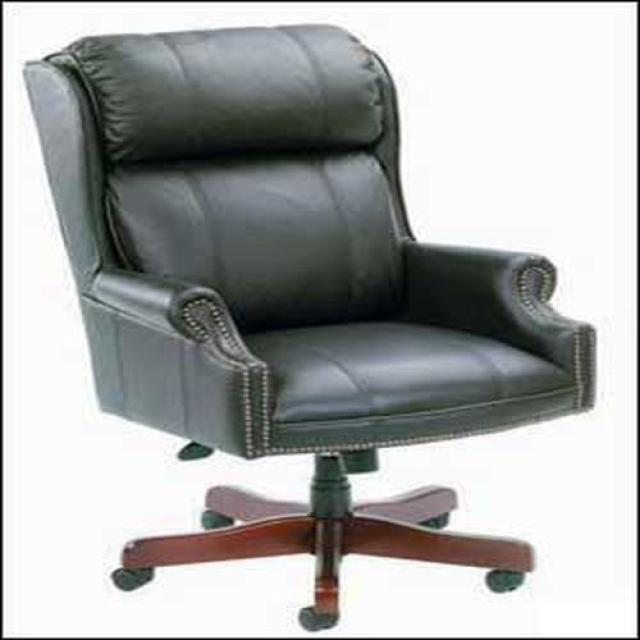swivelchair: (22, 24, 598, 634)
